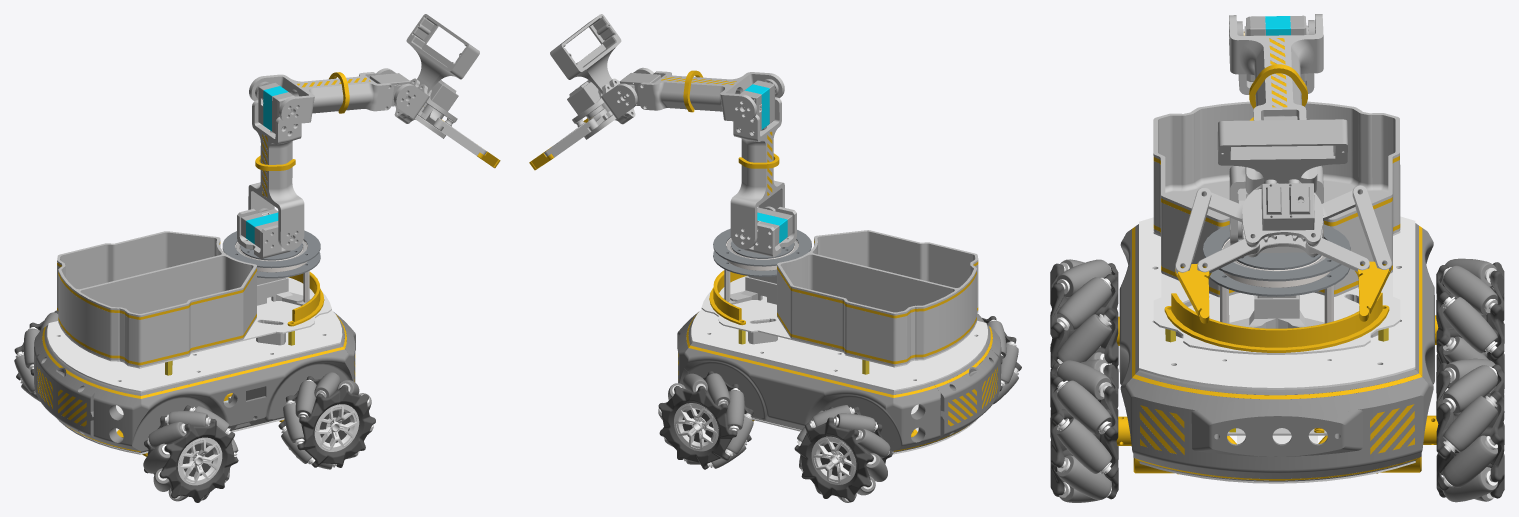
File: MirteMaster3DOptimized.glb
The picture shows the model from 3 angles, left to right: view 1: azimuth 30°, elevation 25°; view 2: azimuth 150°, elevation 25°; view 3: azimuth 270°, elevation 25°; orthographic projection. The views are drawn at different scales.
Visible parts, largest first — view 1: Part 1 (×3), linkages (×4), Plate v01 (×2), Left-Sidepanel-Module, Battery-Module, Right-Sonar-Module, Part 2, Part 3 (×2), Hiwonder LX-225 servo (×2), Part 12, Large top plate, LedHolder (+7 smaller); view 2: Part 1 (×3), linkages (×4), Plate v01 (×2), Right-Sidepanel-Module, Battery-Module, Left-Sonar-Module, Part 2, Part 12 (×2), Hiwonder LX-225 servo (×2), Part 3, Large top plate, LedHolder (+7 smaller); view 3: Camera-Module, Part 1 (×5), Plate v01 (×3), Part 2 (×6), linkages (×3), Part 8 (×4), Part 9 (×4), LedHolder, Part 10 (×2), left_right actuating link (×2), Right-Sidepanel-Module, Left-Sidepanel-Module (+16 smaller).
Part boxes in pixels (box(x1,y1,x2,y2)): Part 1 (×3): box(57, 231, 375, 502); linkages (×4): box(237, 68, 429, 258); Plate v01 (×2): box(47, 277, 342, 392); Left-Sidepanel-Module: box(140, 343, 348, 452); Battery-Module: box(36, 343, 102, 442); Right-Sonar-Module: box(93, 381, 141, 452); Part 2: box(399, 14, 479, 120); Part 3 (×2): box(177, 379, 316, 485); Hiwonder LX-225 servo (×2): box(241, 82, 294, 248); Part 12: box(314, 404, 359, 451); Large top plate: box(222, 230, 320, 268); LedHolder: box(287, 272, 324, 326); Part 1 (×3): box(658, 230, 978, 502); linkages (×4): box(601, 67, 796, 257); Plate v01 (×2): box(691, 276, 987, 391); Right-Sidepanel-Module: box(684, 342, 893, 452); Battery-Module: box(932, 343, 998, 442); Left-Sonar-Module: box(893, 380, 940, 452); Part 2: box(550, 14, 630, 120); Part 12 (×2): box(705, 373, 856, 484); Hiwonder LX-225 servo (×2): box(740, 80, 792, 246); Part 3: box(674, 403, 718, 451); Large top plate: box(713, 228, 811, 266); LedHolder: box(709, 270, 746, 325); Camera-Module: box(1125, 364, 1428, 481); Part 1 (×5): box(1050, 101, 1504, 498); Plate v01 (×3): box(1139, 216, 1415, 483); Part 2 (×6): box(1093, 64, 1461, 499); linkages (×3): box(1229, 14, 1323, 245); Part 8 (×4): box(1056, 277, 1497, 502); Part 9 (×4): box(1057, 314, 1497, 487); LedHolder: box(1164, 292, 1389, 352); Part 10 (×2): box(1056, 380, 1497, 452); left_right actuating link (×2): box(1175, 185, 1391, 273); Right-Sidepanel-Module: box(1397, 223, 1434, 406); Left-Sidepanel-Module: box(1119, 224, 1156, 406).
Bounding box in the file's own units: 0.4933 × 0.3835 × 0.3078.
